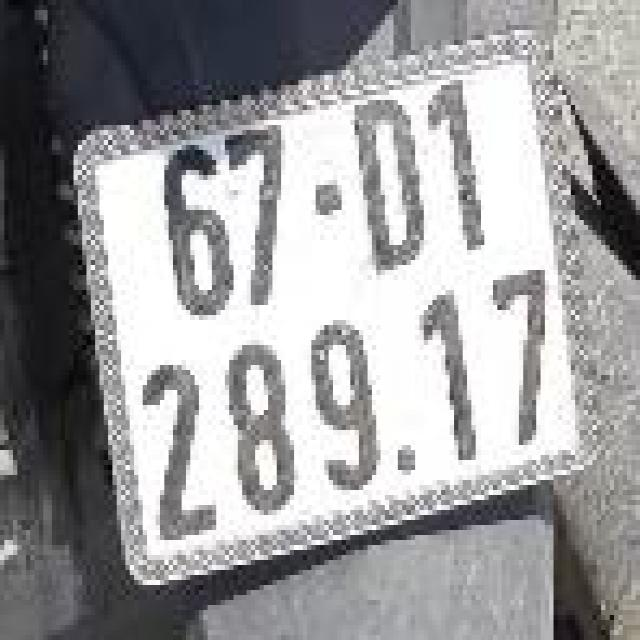1: (400, 282, 487, 474), (419, 70, 492, 267)
2: (127, 349, 229, 548)
6: (143, 128, 249, 338)
7: (217, 113, 317, 316), (481, 258, 572, 454)
8: (211, 332, 311, 529)
9: (295, 312, 393, 511)
D: (338, 86, 443, 294)
